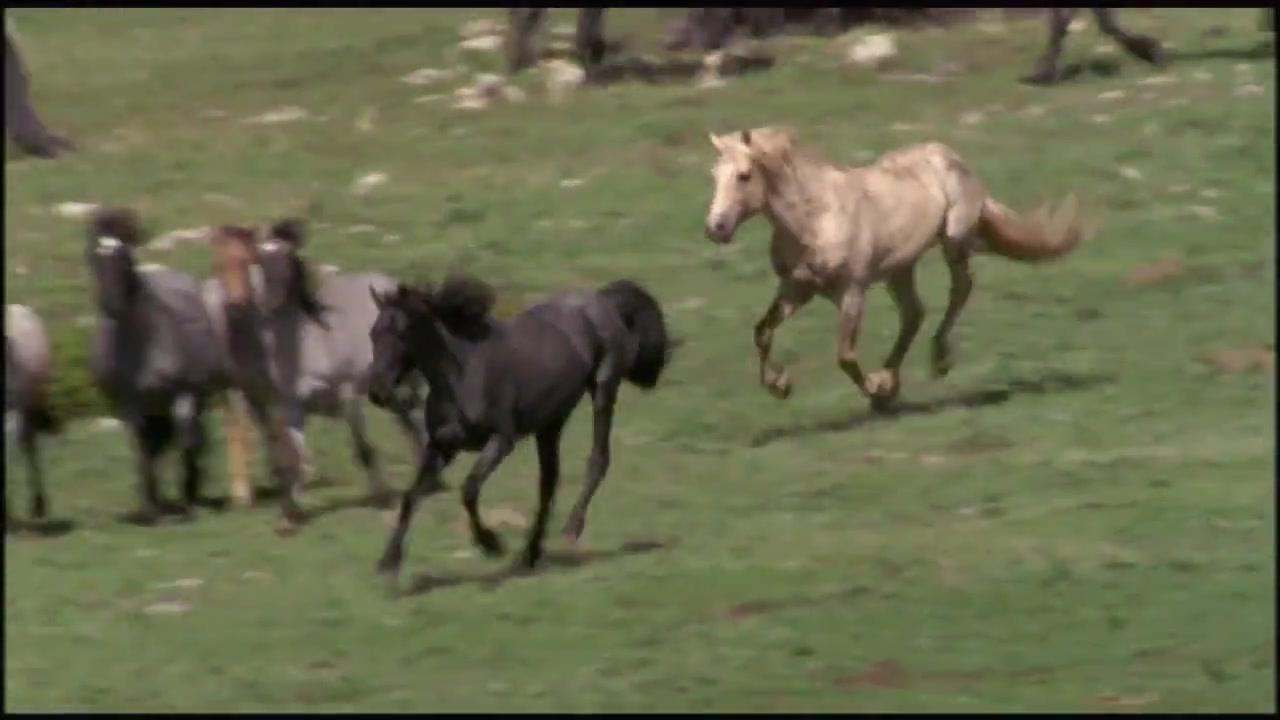horse: (701, 125, 1089, 413)
